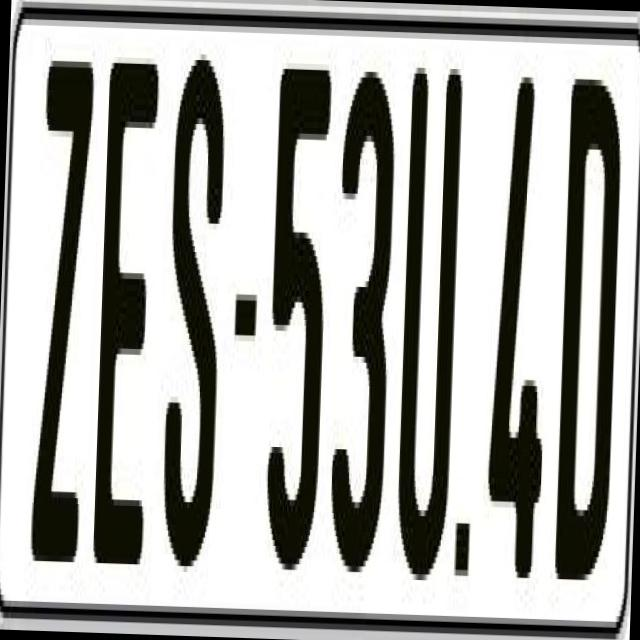3: (326, 59, 397, 562)
4: (480, 76, 552, 614)
5: (259, 51, 335, 564)
D: (551, 67, 629, 592)
E: (89, 57, 158, 576)
S: (160, 47, 232, 567)
U: (393, 50, 463, 598)
Z: (25, 42, 92, 580)
